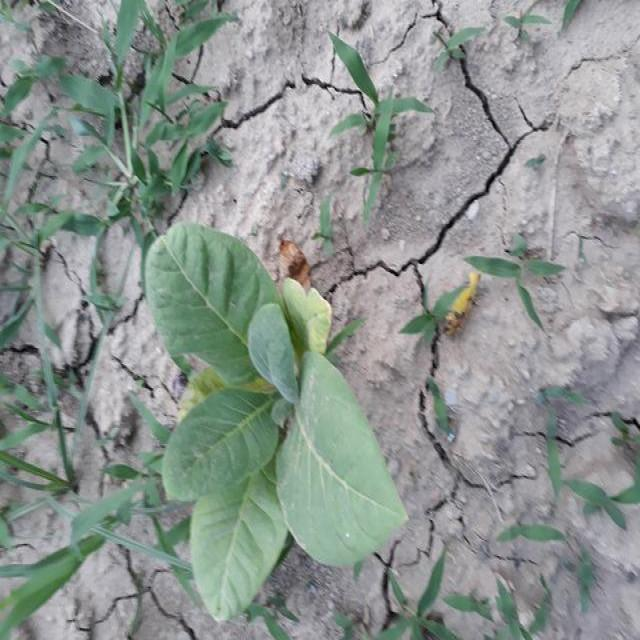crop: (148, 226, 408, 624)
